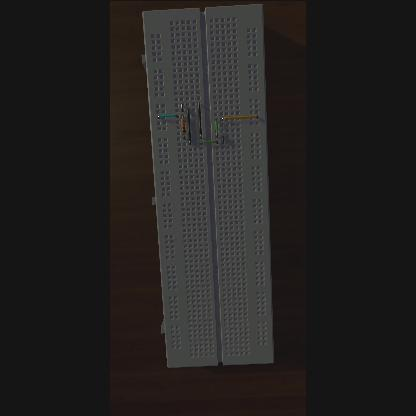breadboard: (142, 3, 274, 367)
resistor: (182, 118, 186, 134)
wire: (221, 115, 258, 119), (188, 108, 192, 144), (198, 102, 202, 138), (158, 114, 178, 118), (202, 140, 218, 144), (216, 119, 218, 138), (182, 103, 184, 111), (222, 135, 224, 143), (184, 134, 186, 138), (182, 115, 184, 117)
